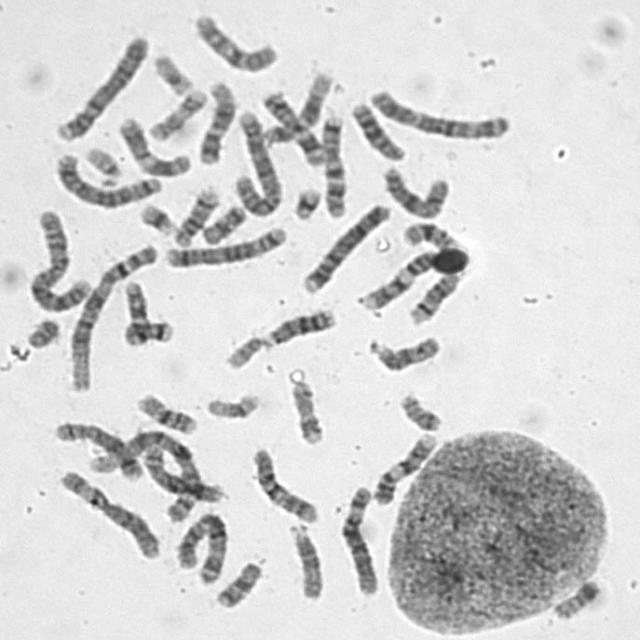A1: (62, 238, 160, 395), (84, 424, 198, 530)
A2: (22, 203, 94, 313), (226, 102, 284, 218)
A3: (362, 81, 512, 141), (170, 505, 229, 586)
B4: (48, 28, 151, 143), (295, 197, 393, 296)
B5: (48, 146, 164, 210), (158, 219, 290, 269)
C10: (187, 5, 280, 74), (245, 441, 321, 525)
C11: (256, 86, 327, 168), (111, 110, 194, 178)
C12: (256, 64, 336, 144), (192, 74, 238, 165)
C6: (53, 462, 164, 561), (333, 479, 382, 597)
C7: (113, 283, 175, 347), (315, 108, 349, 219)
C8: (134, 442, 236, 510), (48, 414, 146, 480)
C9: (352, 244, 443, 312), (367, 426, 440, 507)
D13: (345, 95, 408, 163), (258, 302, 338, 348)
D14: (402, 264, 464, 326), (166, 180, 222, 248)
D15: (282, 516, 325, 602), (362, 329, 442, 373)
E16: (130, 386, 200, 436), (397, 216, 460, 251)
E17: (142, 83, 210, 143), (284, 375, 326, 447)
E18: (208, 554, 264, 610), (194, 198, 249, 246)
F19: (146, 47, 196, 97), (198, 386, 263, 420)
F20: (546, 573, 604, 622), (393, 387, 444, 432)
G21: (133, 197, 178, 237), (287, 180, 324, 221)
G22: (218, 328, 269, 371), (79, 140, 123, 188)
X: (376, 159, 452, 221)
Y: (21, 311, 62, 349)
